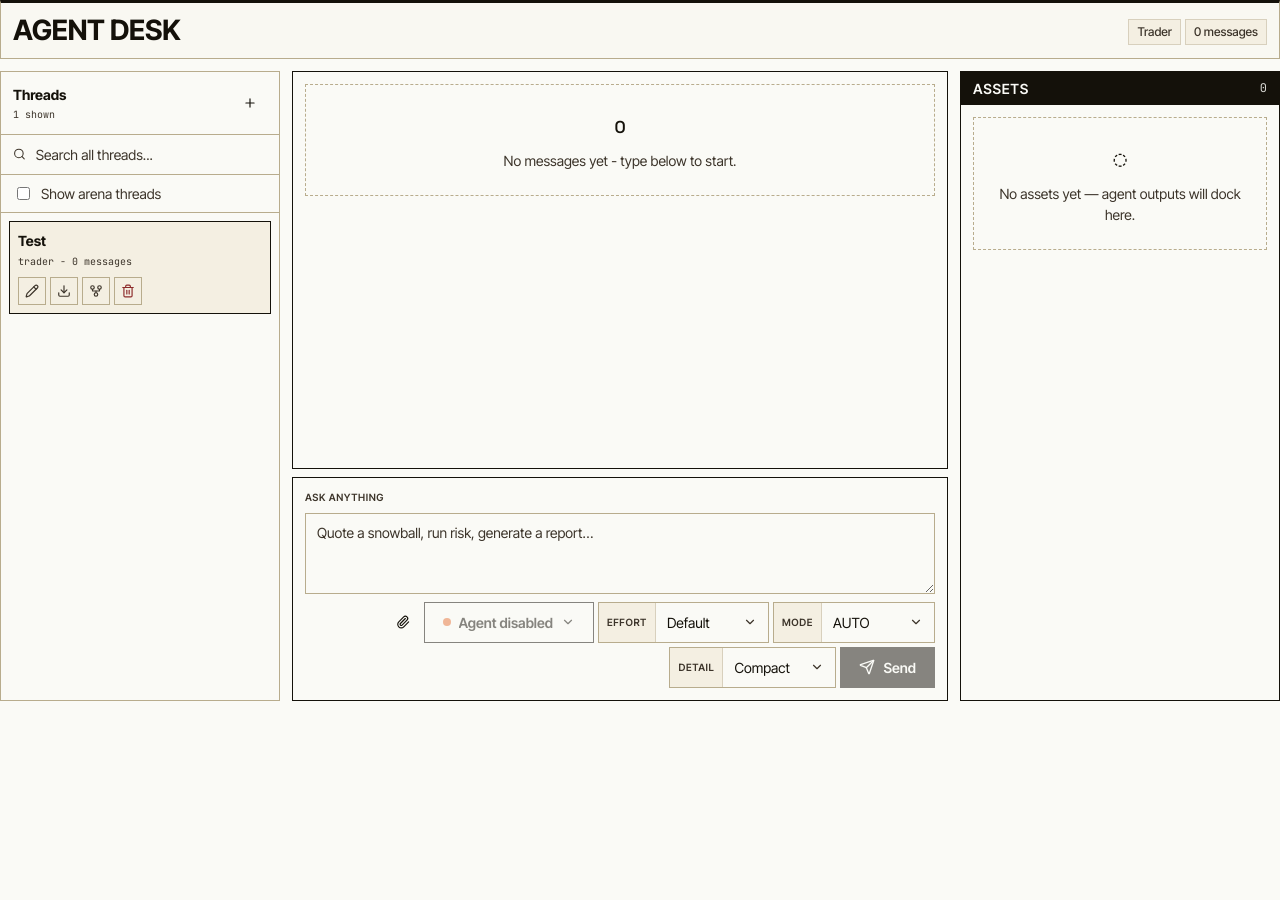
AgentDeskLive SSE parsing › ignores heartbeat events
The width and height of the screenshot is (1280, 900).
Type "hi" into the text box labelled "Ask anything" at [620, 553], box [305,513,935,594]
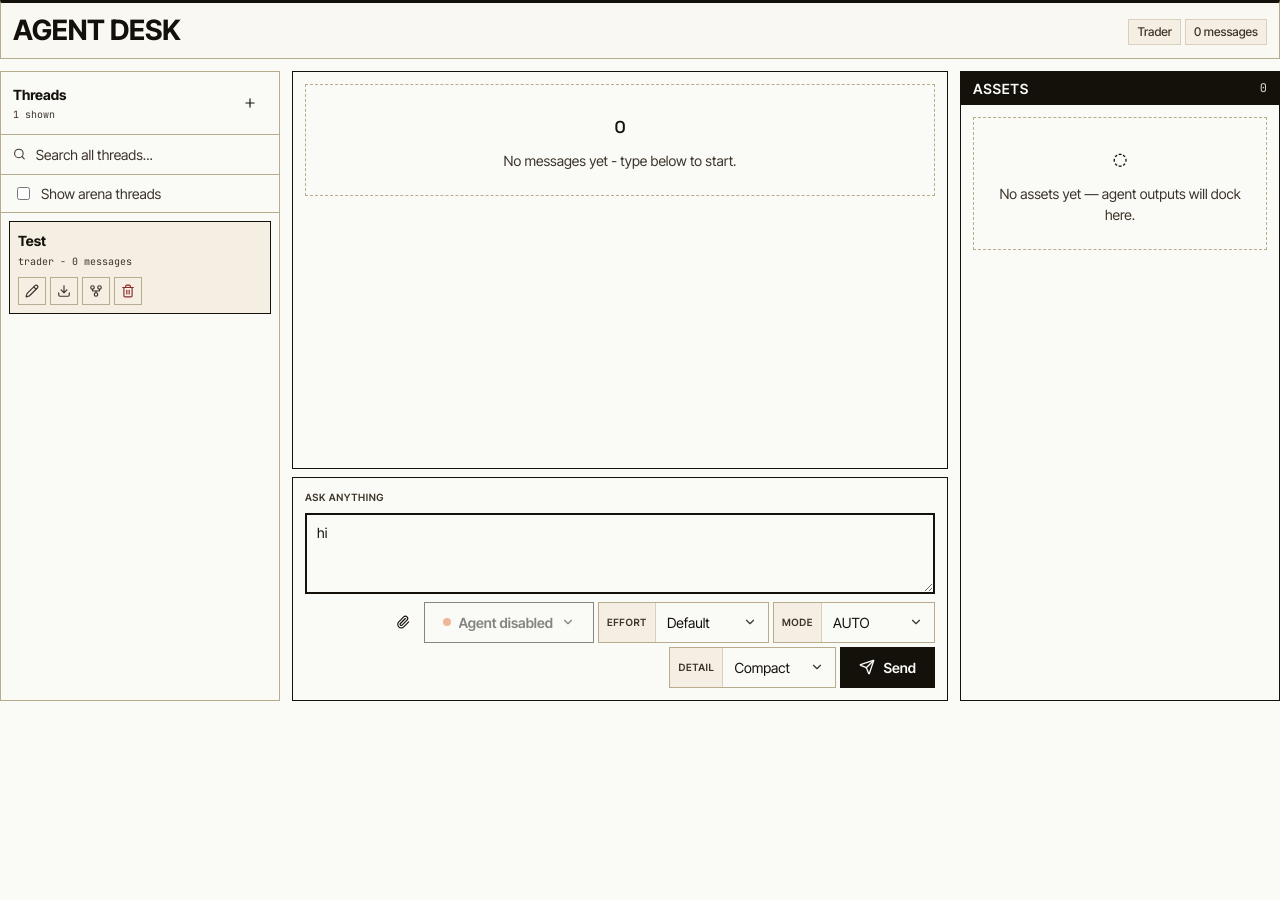
Click the button "Send" at [888, 667], box [840,647,935,688]
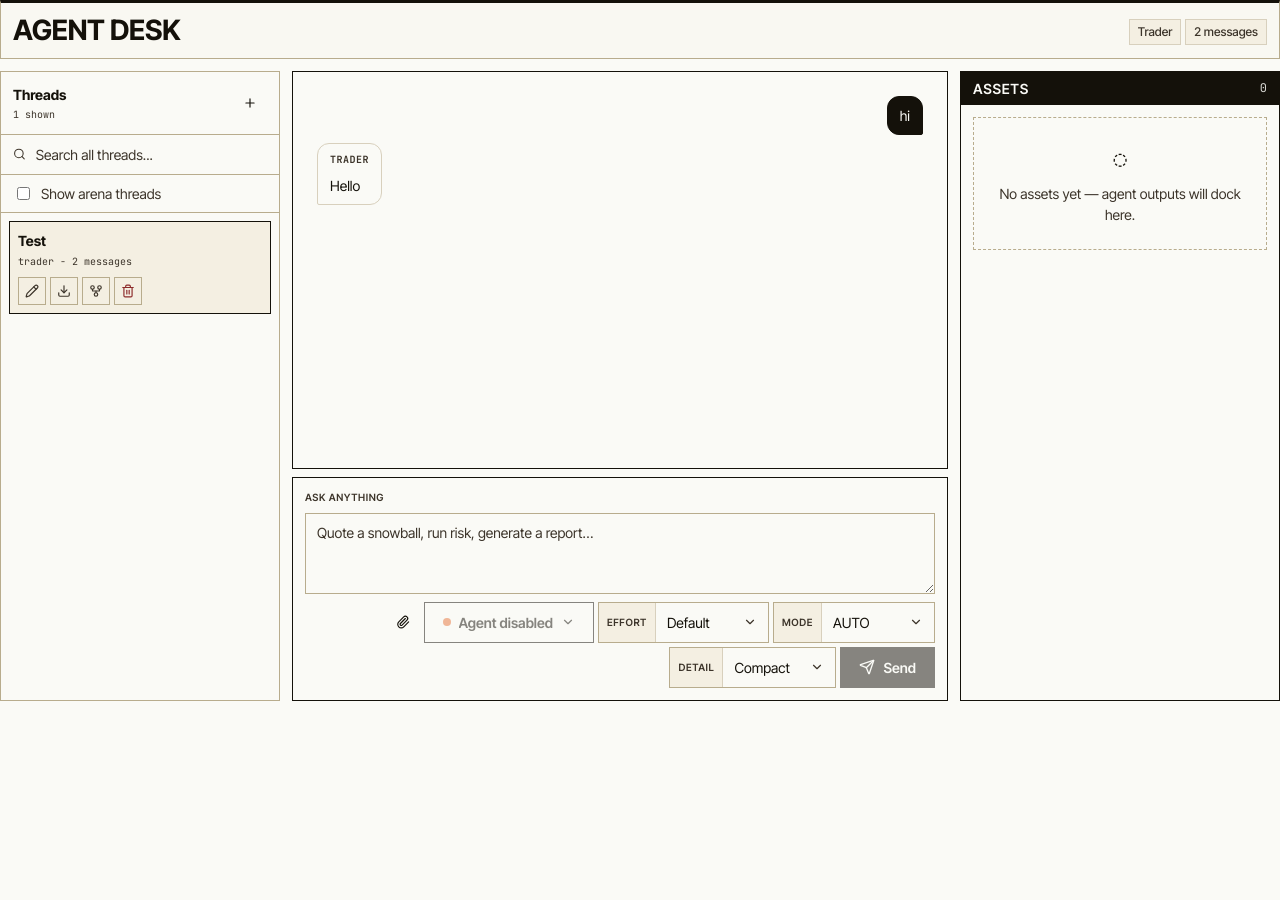
Check: the text "Hello" is shown, box [330,177,360,194]
